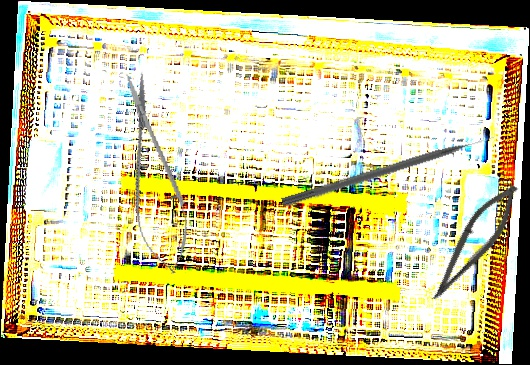Micro Scissor: (108, 67, 199, 279), (423, 175, 528, 312)
Pusher: (281, 132, 496, 210)
